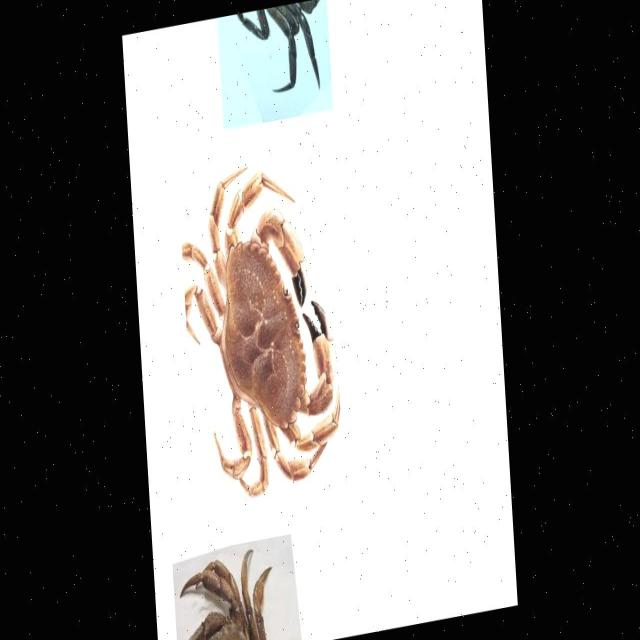egc: (236, 0, 321, 93)
